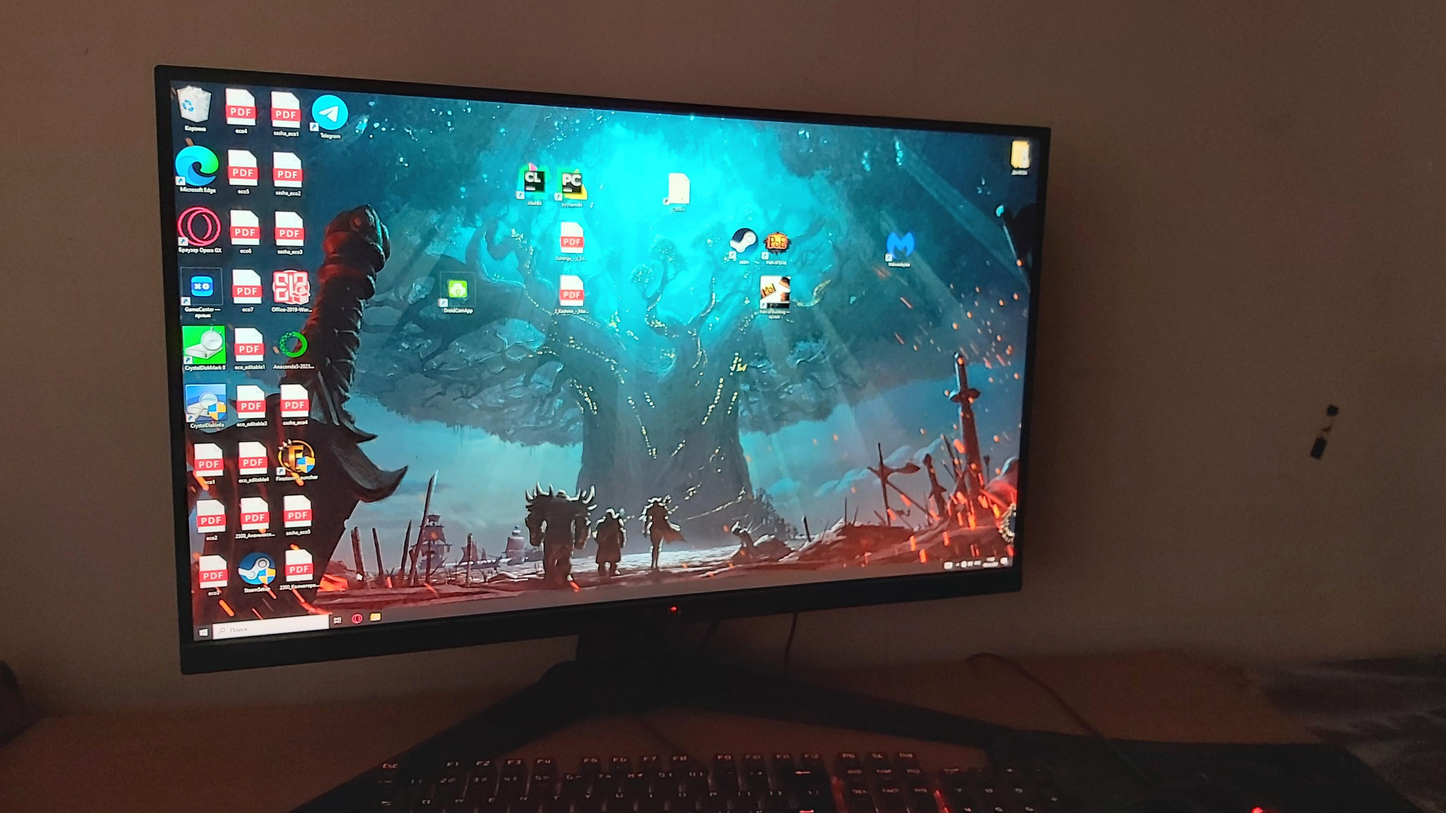monitor: (147, 56, 1056, 688)
